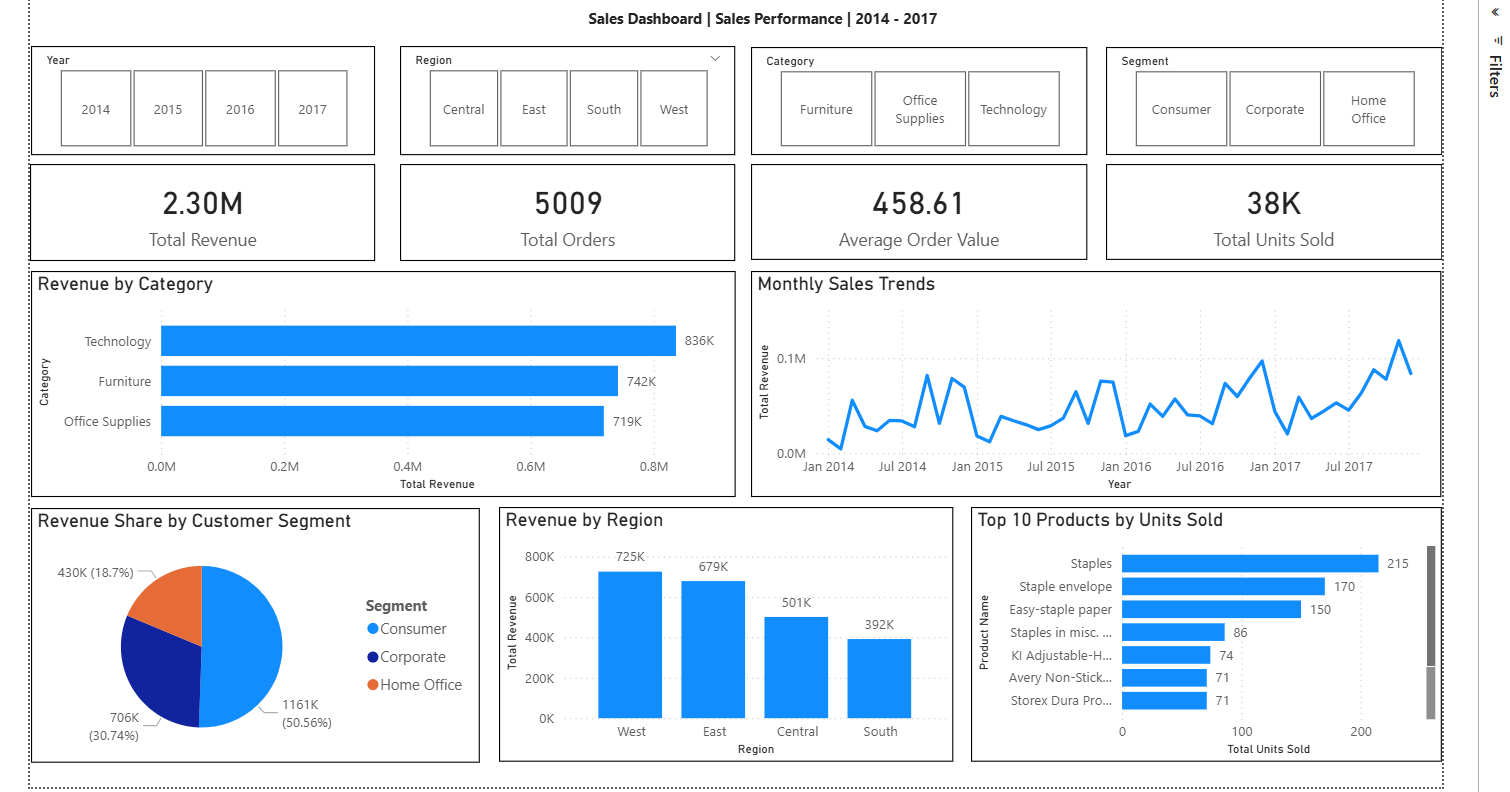

The page's visual inventory and layout, read from the dashboard file:
{"tool":"powerbi","page":{"name":"Page 1","canvas":[1280,720],"ordinal":0},"visuals":[{"type":"card","fields":{"Values":["Sample - Superstore.Total Revenue"]},"box":[0,154.7,313.2,87.5],"z":0},{"type":"card","fields":{"Values":["Sample - Superstore.Total Orders"]},"box":[335.6,154.7,304.4,87.5],"z":1000},{"type":"card","fields":{"Values":["Sample - Superstore.Average Order Value"]},"box":[653.8,155.1,304.7,87.1],"z":2000},{"type":"card","fields":{"Values":["Sample - Superstore.Total Units Sold"]},"box":[975.7,155.1,304.7,87.1],"z":3000},{"type":"clusteredBarChart","title":"Revenue by Category","fields":{"Category":["Sample - Superstore.Category"],"Y":["Sample - Superstore.Total Revenue"]},"box":[0.9,252.1,639.3,204.9],"z":4000},{"type":"lineChart","title":"Monthly Sales Trends","fields":{"Category":["Sample - Superstore.Order Date.Variation.Date Hierarchy.Year","Sample - Superstore.Order Date.Variation.Date Hierarchy.Month"],"Y":["Sample - Superstore.Total Revenue"]},"box":[653.6,251.9,626.4,205.2],"z":5000},{"type":"pieChart","title":"Revenue Share by Customer Segment","fields":{"Category":["Sample - Superstore.Segment"],"Y":["Sample - Superstore.Total Revenue"]},"box":[1,466.9,406.6,230.5],"z":6000},{"type":"textbox","box":[57.4,8.8,1214.8,38.9],"z":7000},{"type":"clusteredBarChart","title":"Top 10 Products by Units Sold","fields":{"Category":["Sample - Superstore.Product Name"],"Y":["Sample - Superstore.Total Units Sold"]},"box":[853,465.9,427,231.5],"z":8000},{"type":"clusteredColumnChart","title":"Revenue by Region","fields":{"Category":["Sample - Superstore.Region"],"Y":["Sample - Superstore.Total Revenue"]},"box":[425,465.9,412.4,231.5],"z":9000},{"type":"slicer","fields":{"Values":["Sample - Superstore.Order Date.Variation.Date Hierarchy.Year"]},"box":[1,47.7,312.2,99.2],"z":10000},{"type":"slicer","fields":{"Values":["Sample - Superstore.Region"]},"box":[335.6,47.7,304.4,99.2],"z":11000},{"type":"slicer","fields":{"Values":["Sample - Superstore.Category"]},"box":[653.8,49,304.7,97.9],"z":12000},{"type":"slicer","fields":{"Values":["Sample - Superstore.Segment"]},"box":[975.7,49,304.7,97.9],"z":13000}]}

Visuals, with their boxes in screenshot pixels (x1, y1, x2, y2):
card - Sample - Superstore.Total Revenue: 51,164,390,258
card - Sample - Superstore.Total Orders: 414,164,744,258
card - Sample - Superstore.Average Order Value: 759,164,1089,258
card - Sample - Superstore.Total Units Sold: 1107,164,1437,258
"Revenue by Category" clusteredBarChart: 52,269,744,491
"Monthly Sales Trends" lineChart: 759,269,1437,491
"Revenue Share by Customer Segment" pieChart: 52,502,492,751
textbox: 113,6,1428,48
"Top 10 Products by Units Sold" clusteredBarChart: 975,500,1437,751
"Revenue by Region" clusteredColumnChart: 511,500,958,751
slicer - Sample - Superstore.Order Date.Variation.Date Hierarchy.Year: 52,48,390,155
slicer - Sample - Superstore.Region: 414,48,744,155
slicer - Sample - Superstore.Category: 759,49,1089,155
slicer - Sample - Superstore.Segment: 1107,49,1437,155
